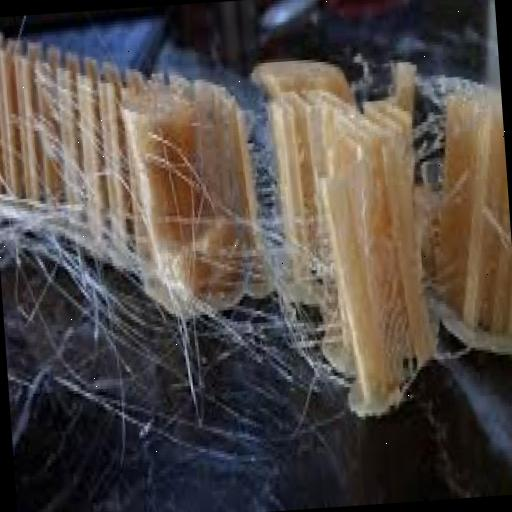stringing: (3, 189, 169, 338), (196, 230, 329, 374), (240, 106, 283, 246), (411, 79, 475, 168)
